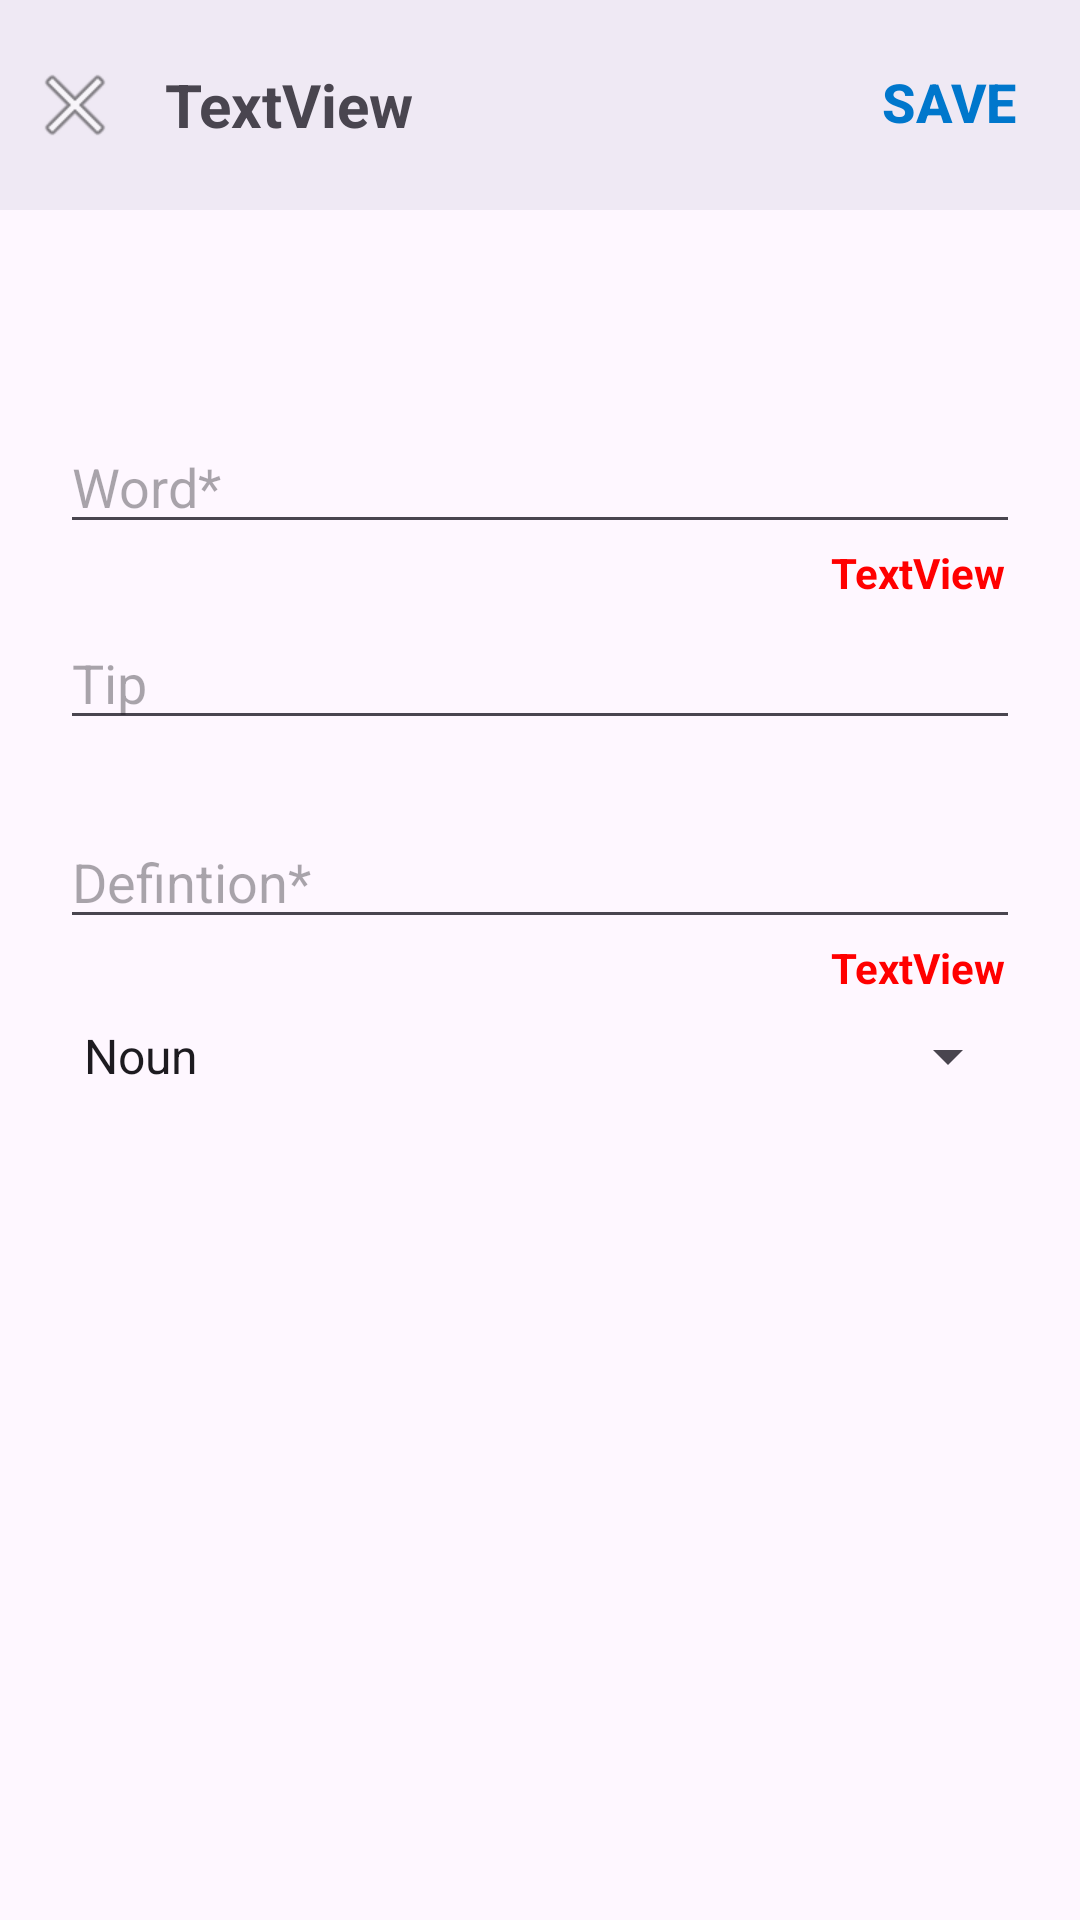

Icons on this 1080x1920 Android screen, each with the point to tap as point (x, y):
close clear cancel: point (75, 105)
